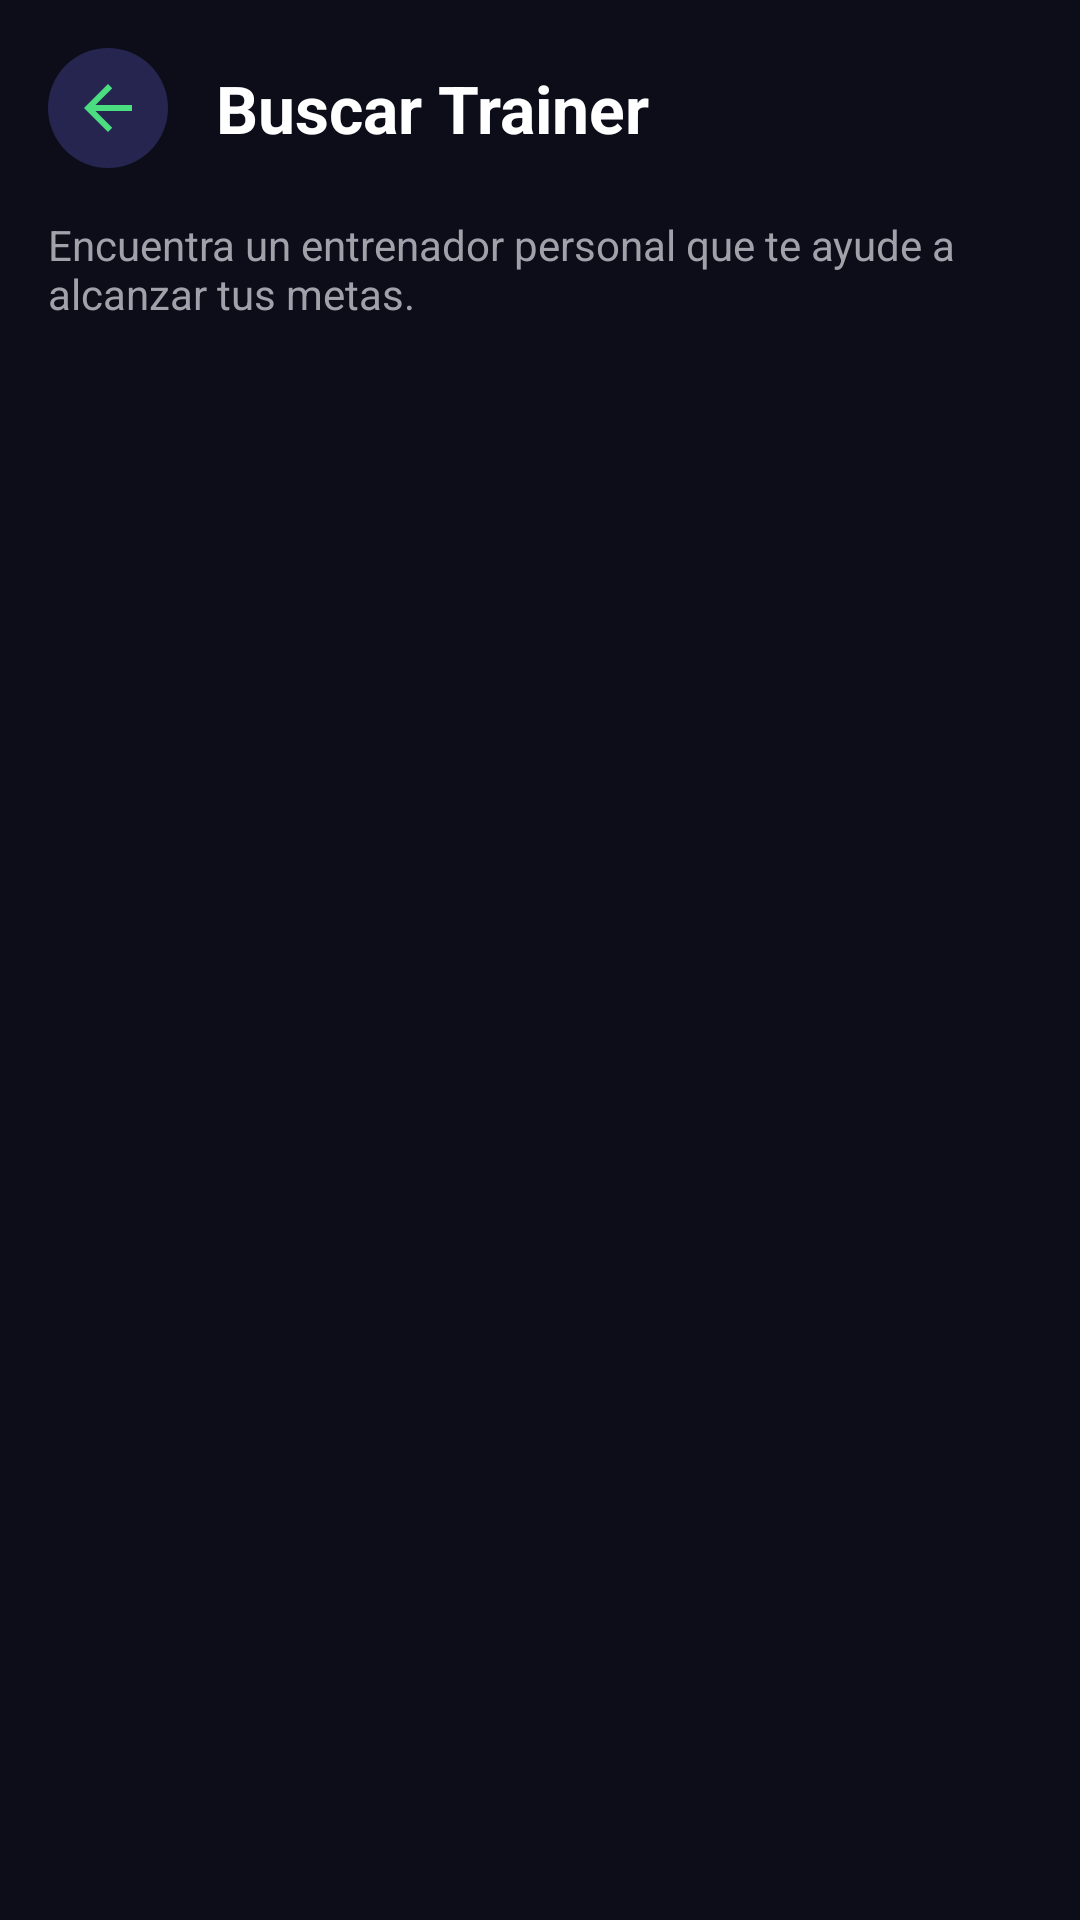

Icons on this 1080 × 1920 Android screen, each with its box as (x1=x1, y1=y1, x2=x2, y2=y2):
Volver: (x1=48, y1=48, x2=168, y2=168)
